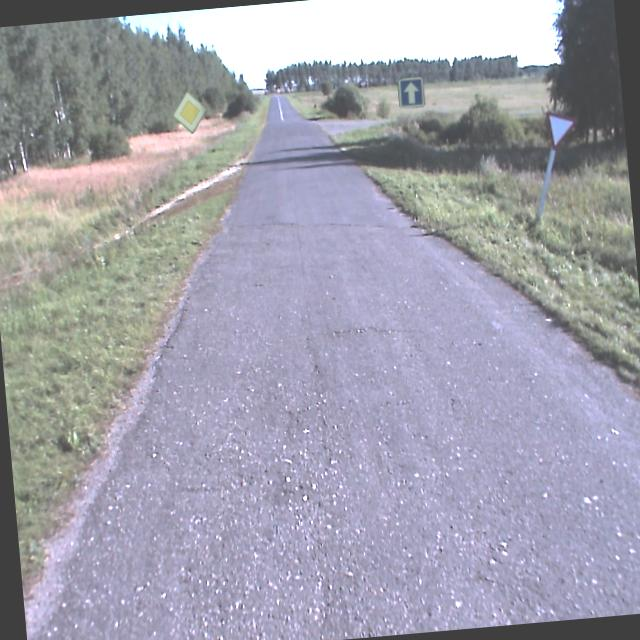road: (25, 95, 640, 640)
